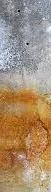Corrosion: (1, 82, 51, 192)
